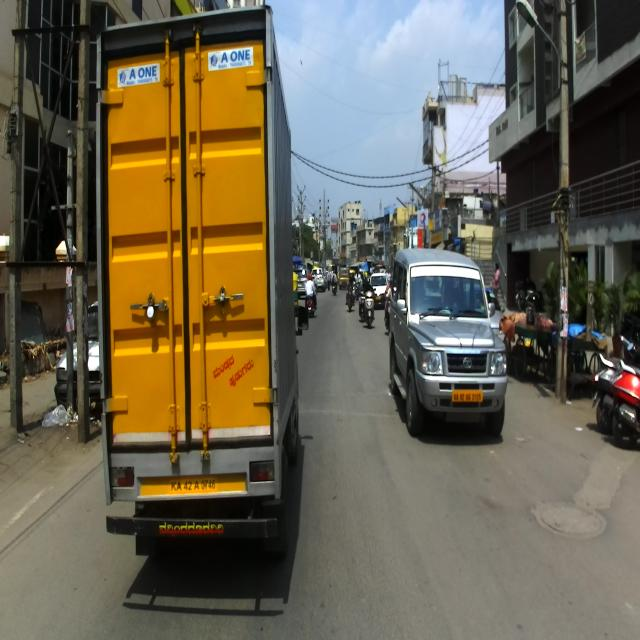car ahead at: (385, 246, 508, 444)
electric pole ahead at: (517, 0, 576, 405), (49, 0, 97, 449)
truck ahead at: (100, 11, 290, 554)
